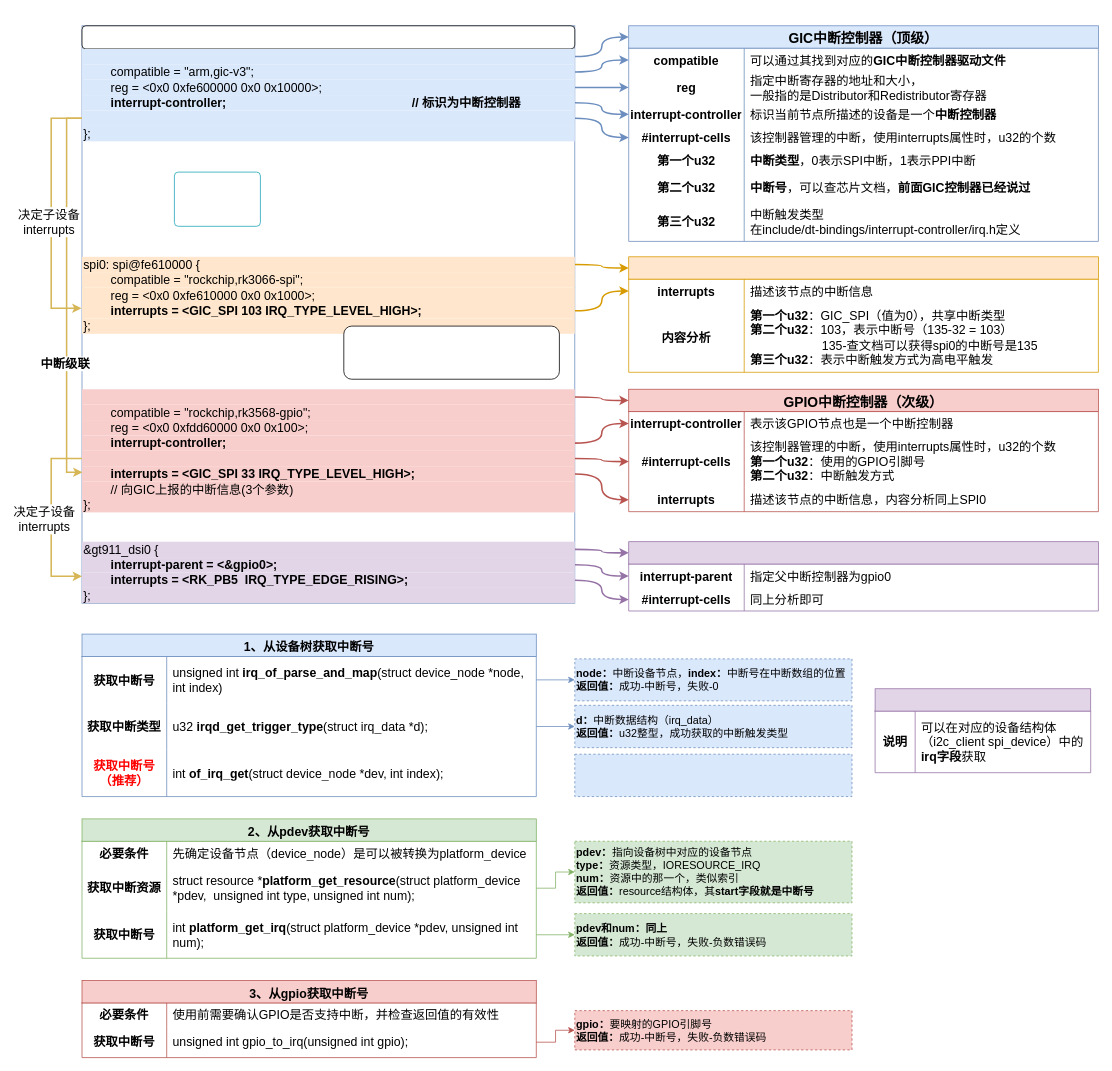
Some shapes in this 1112 by 1071 pixel diagram are drawn without their labels. Each missing label, with the box of its shape:
#interrupt-cells = <2>;: (82, 450, 574, 466)
#interrupt-cells = <3>; // GIC需要3个参数: (82, 110, 574, 126)
4、从i2c或spi获取中断号: (874, 688, 1091, 711)
dev： 指向设备树中对应的设备节点 index： 索引号，interrupts可能有多条中断信息 返回值： 成功-中断号，失败-负数错误码: (574, 753, 852, 797)
gic: interrupt-controller@fe600000 {: (82, 49, 574, 64)
gpio0: gpio@fdd60000 {: (82, 389, 574, 404)
GT911触摸屏控制器设备: (628, 541, 1098, 564)
SPI0设备使用中断（非级联）: (628, 256, 1098, 279)
中断相关节点图示（掌握）: (81, 25, 575, 49)
提示： spi0个gpio0没有 interrupt-parent属性 因为在根节点下面已经定义了: (343, 325, 559, 379)
🌻Make By Dakkk: (174, 171, 260, 226)
